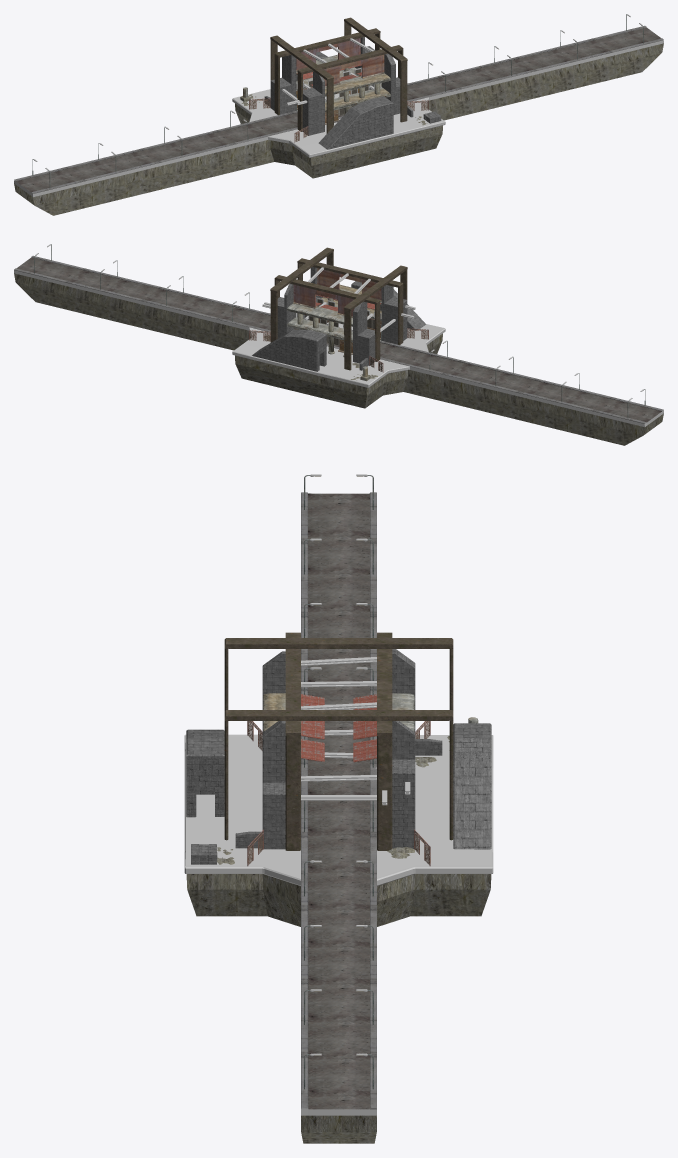
Rendered from roadmap.fbx.
The picture shows the model from 3 angles, top to bottom: view 1: azimuth 30°, elevation 25°; view 2: azimuth 150°, elevation 25°; view 3: azimuth 270°, elevation 25°; orthographic projection. The views are drawn at different scales.
Visible parts, largest first — view 1: Plane.001, Plane.019, Plane.020, Plane.008, Cube.005, Plane.005, Plane.023; view 2: Plane.001, Plane.019, Plane.020, Plane.008, Plane.005, Plane.023, Cube.005, Cube.001; view 3: Plane.001, Plane.019, Plane.005, Plane.027, Cube.005, Plane.023, Plane.020.
Boxes of the visible parts, left/top/right/bottom form: Plane.001: left=14, top=25, right=663, bottom=215; Plane.019: left=270, top=17, right=407, bottom=133; Plane.020: left=296, top=54, right=390, bottom=112; Plane.008: left=296, top=38, right=384, bottom=86; Cube.005: left=32, top=14, right=643, bottom=188; Plane.005: left=282, top=38, right=380, bottom=105; Plane.023: left=249, top=98, right=428, bottom=142; Plane.001: left=14, top=255, right=663, bottom=445; Plane.019: left=270, top=247, right=407, bottom=370; Plane.020: left=287, top=284, right=381, bottom=342; Plane.008: left=293, top=268, right=381, bottom=316; Plane.005: left=262, top=267, right=415, bottom=331; Plane.023: left=249, top=328, right=428, bottom=372; Cube.005: left=34, top=244, right=645, bottom=418; Cube.001: left=297, top=298, right=374, bottom=356; Plane.001: left=184, top=492, right=493, bottom=1143; Plane.019: left=224, top=632, right=453, bottom=850; Plane.005: left=301, top=657, right=410, bottom=805; Plane.027: left=301, top=694, right=376, bottom=762; Cube.005: left=304, top=474, right=373, bottom=1089; Plane.023: left=247, top=721, right=430, bottom=866; Plane.020: left=263, top=693, right=414, bottom=731.
Size of the model in its own units: 191 by 25.92 by 40.48.
